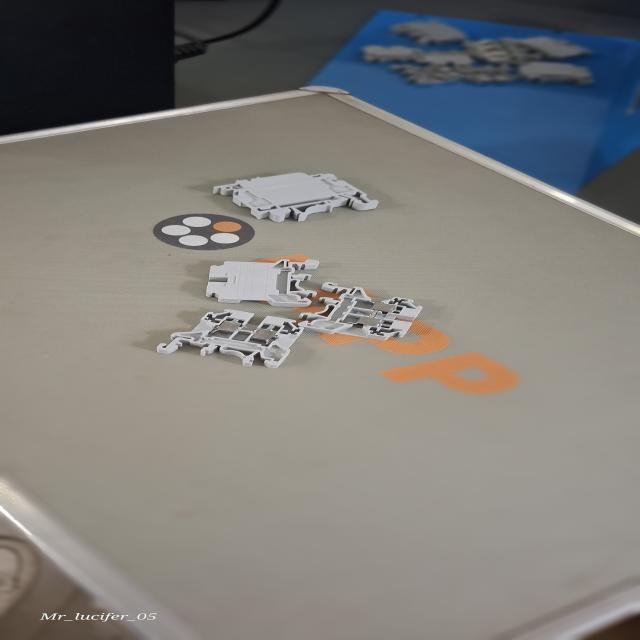Inverted: (202, 257, 330, 310)
Pass: (153, 306, 304, 372), (298, 280, 432, 344)
